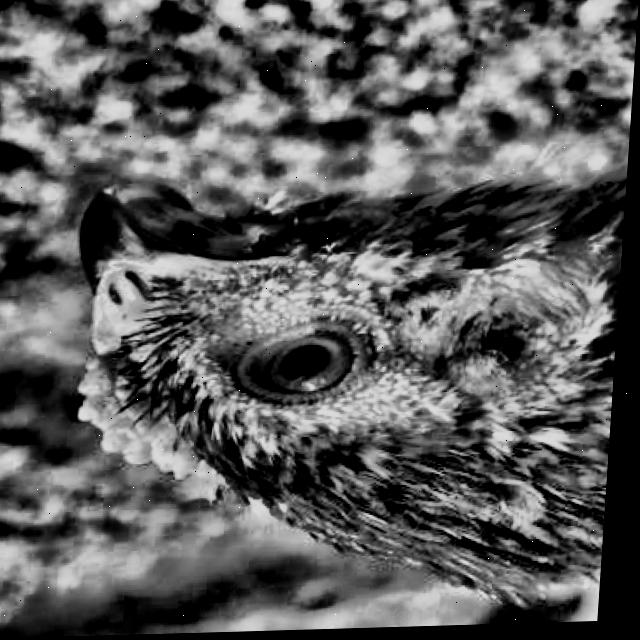Healthy: (202, 287, 430, 444)
